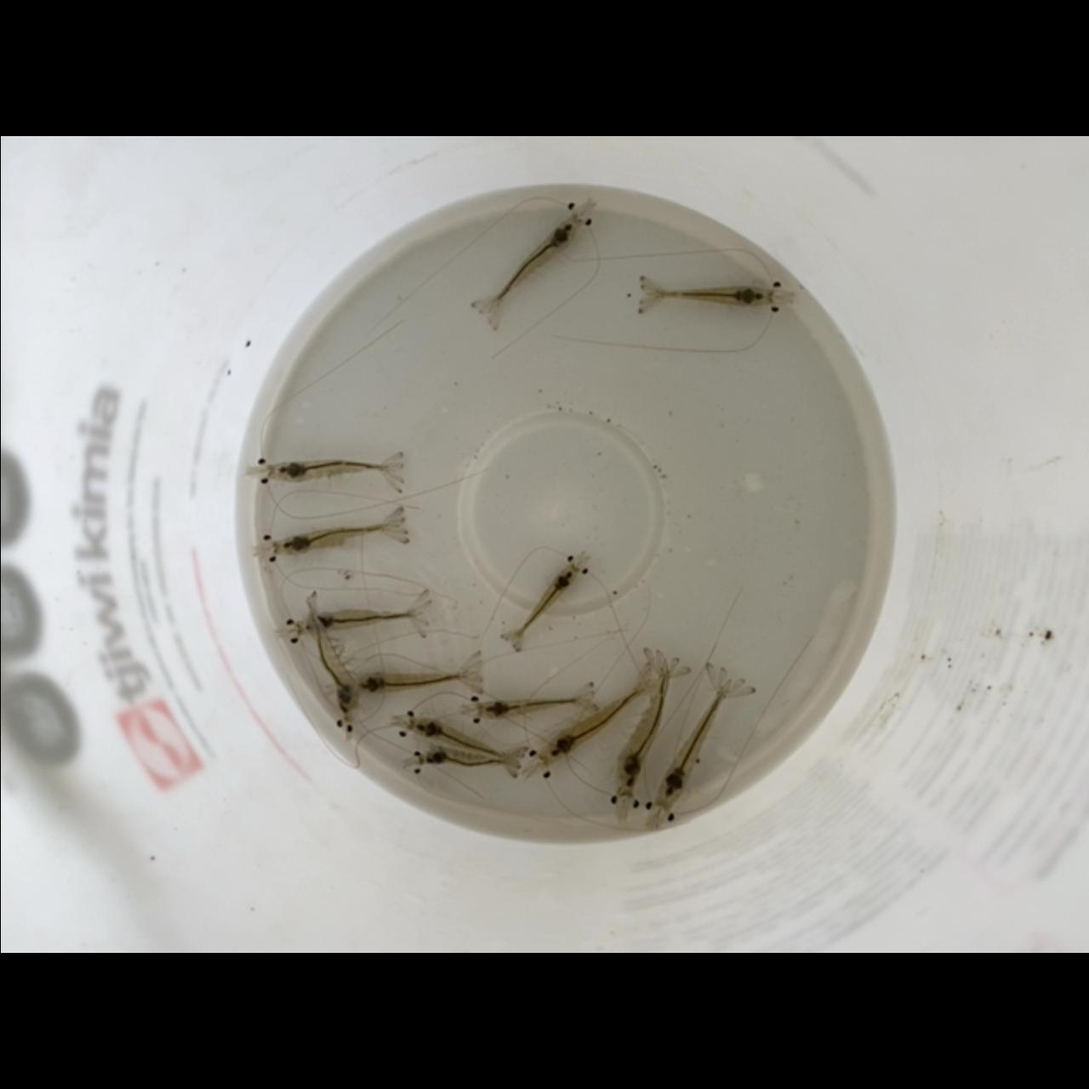top_shrimp: (654, 678, 730, 807), (539, 678, 651, 765), (486, 217, 578, 318), (614, 658, 669, 796), (308, 600, 358, 722), (509, 564, 578, 642), (408, 716, 517, 760), (271, 525, 400, 555), (295, 609, 424, 634), (266, 459, 396, 483), (478, 697, 591, 721), (643, 286, 772, 307), (347, 673, 474, 694), (418, 748, 517, 768)
